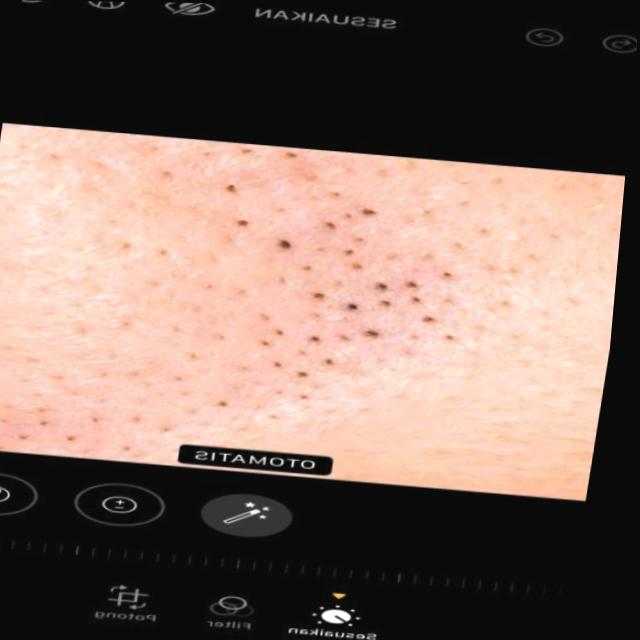blackhead: (147, 148, 526, 423)
